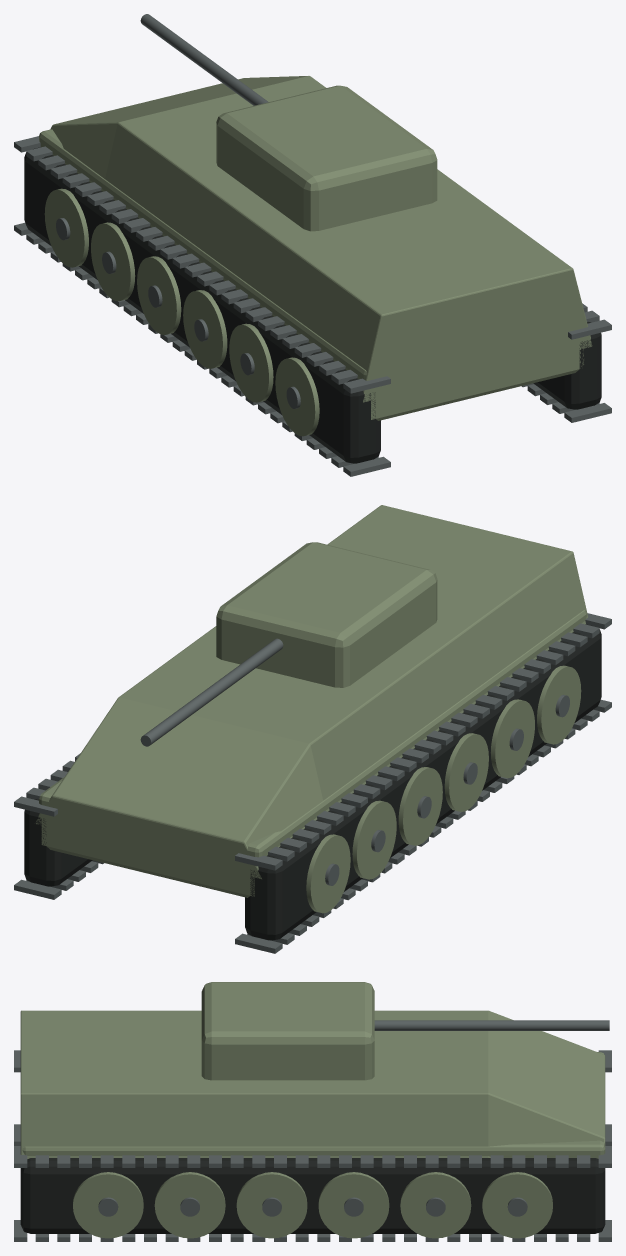
3 renders of one model, top to bottom at view 1: azimuth 30°, elevation 25°; view 2: azimuth 150°, elevation 25°; view 3: azimuth 270°, elevation 25°, orthographic. The views are drawn at different scales.
Visible parts, largest first — view 1: Hull_MVP olive paint, Turret_MVP olive paint, RunningGear_MVP olive paint, RunningGear_MVP rubber, RunningGear_MVP exposed metal, Turret_MVP exposed metal; view 2: Hull_MVP olive paint, Turret_MVP olive paint, RunningGear_MVP exposed metal, RunningGear_MVP olive paint, RunningGear_MVP rubber, Turret_MVP exposed metal; view 3: Hull_MVP olive paint, RunningGear_MVP olive paint, RunningGear_MVP rubber, Turret_MVP olive paint, RunningGear_MVP exposed metal, Turret_MVP exposed metal.
Part boxes in pixels (x1,y1,x2,y2): Hull_MVP olive paint: (39,76,592,420); Turret_MVP olive paint: (216,85,437,231); RunningGear_MVP olive paint: (44,188,319,436); RunningGear_MVP rubber: (24,147,601,463); RunningGear_MVP exposed metal: (14,136,611,476); Turret_MVP exposed metal: (140,14,268,105); Hull_MVP olive paint: (36,505,587,897); Turret_MVP olive paint: (216,542,437,687); RunningGear_MVP exposed metal: (14,613,611,953); RunningGear_MVP olive paint: (306,665,581,913); RunningGear_MVP rubber: (24,624,601,940); Turret_MVP exposed metal: (140,638,283,746); Hull_MVP olive paint: (20,1010,605,1158); RunningGear_MVP olive paint: (73,1172,552,1238); RunningGear_MVP rubber: (20,1158,605,1233); Turret_MVP olive paint: (201,982,374,1080); RunningGear_MVP exposed metal: (14,1050,611,1241); Turret_MVP exposed metal: (374,1020,609,1030).
Size of the model in its own units: 3.39 by 2.39 by 7.26.
